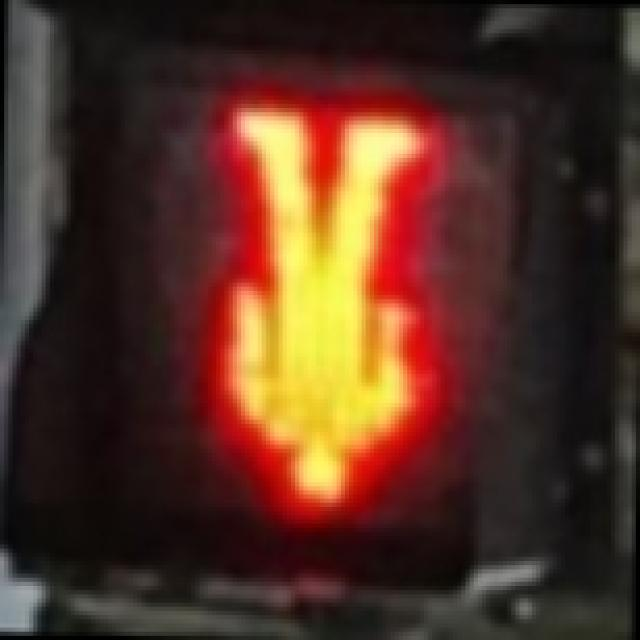red-crossing: (195, 100, 432, 532)
